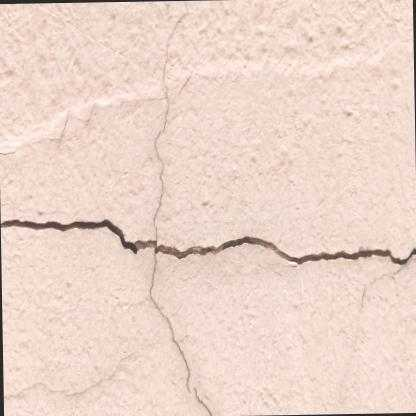crack: (0, 217, 416, 265)
